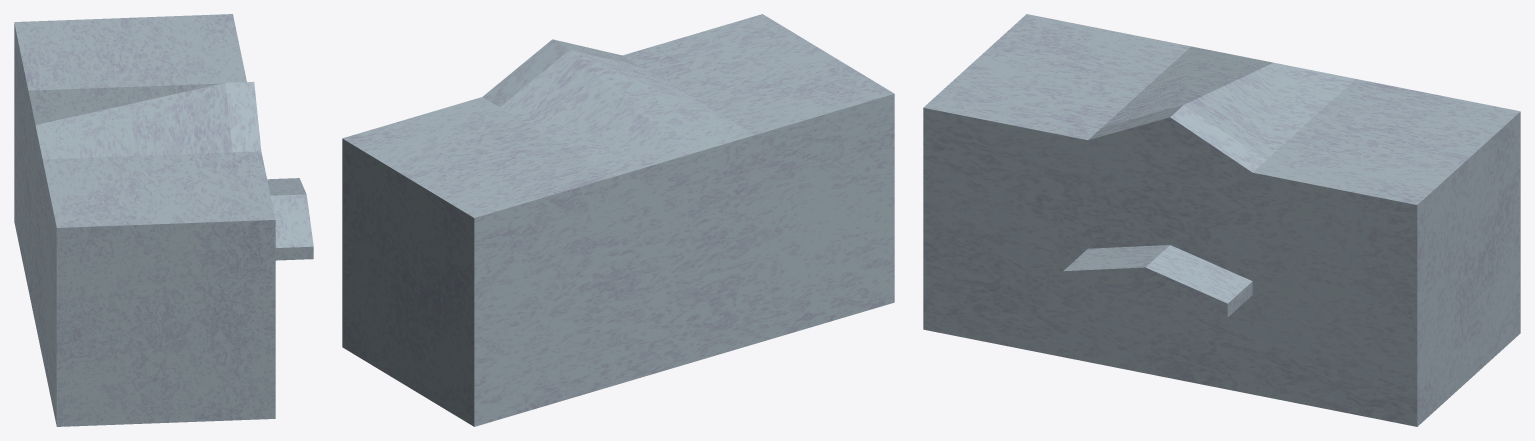
The model's file is CCR.gltf.
The picture shows the model from 3 angles, left to right: view 1: azimuth 30°, elevation 25°; view 2: azimuth 150°, elevation 25°; view 3: azimuth 270°, elevation 25°; orthographic projection. The views are drawn at different scales.
Parts seen in each view (by area): view 1: CCR; view 2: CCR; view 3: CCR.
Part boxes in pixels (x1,y1,x2,y2): CCR: [14, 14, 313, 426]; CCR: [342, 14, 894, 426]; CCR: [923, 14, 1520, 426].
Bounding box in the file's own units: 1.16 × 0.7374 × 1.53.
Materials: 1 (1 with a texture image).
